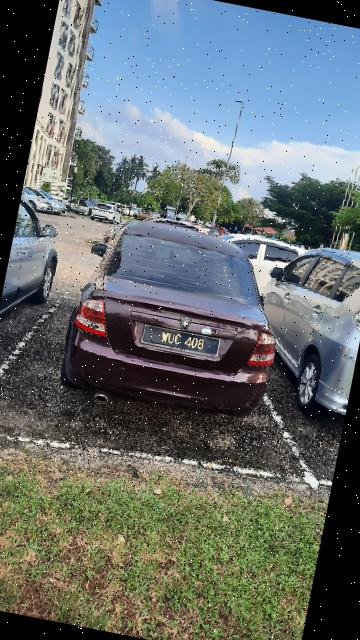License_Plate: (140, 320, 223, 361)
car: (47, 206, 299, 443), (242, 233, 360, 424), (1, 197, 76, 333)
